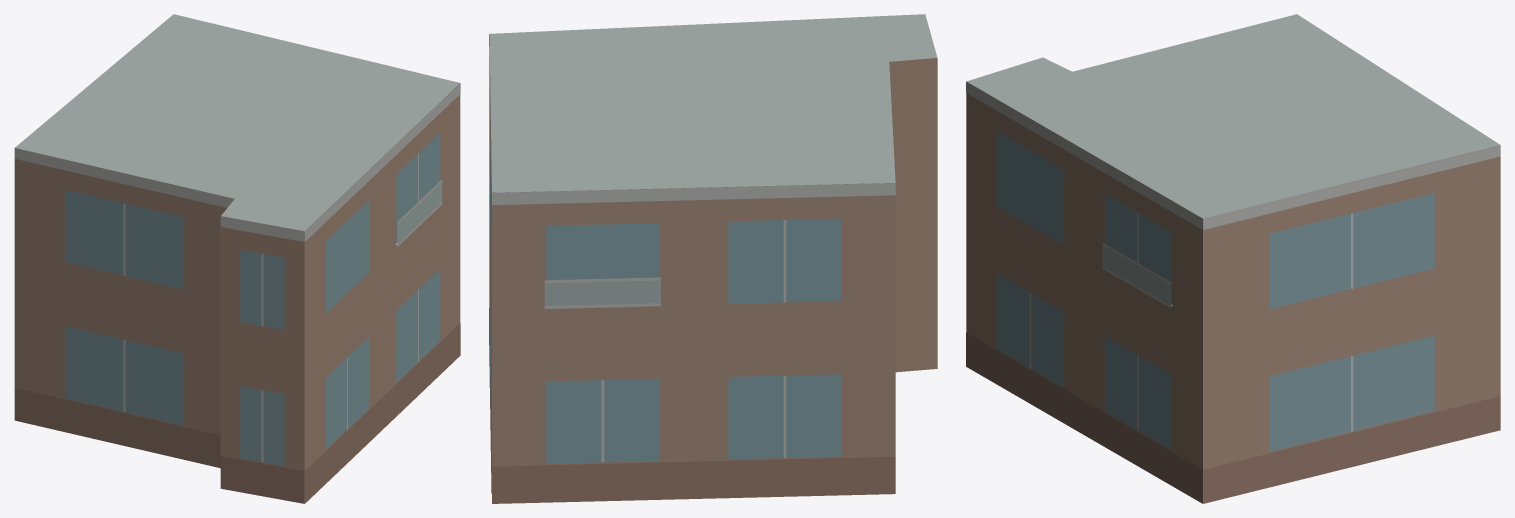
Rendered from survey-upis-32591151.glb.
3 renders of one model, left to right at view 1: azimuth 30°, elevation 25°; view 2: azimuth 150°, elevation 25°; view 3: azimuth 270°, elevation 25°, orthographic. The views are drawn at different scales.
Parts seen in each view (by area): view 1: survey-upis-32591151.tmp; view 2: survey-upis-32591151.tmp; view 3: survey-upis-32591151.tmp.
Part boxes in pixels (x1,y1,x2,y2): survey-upis-32591151.tmp: [14, 14, 460, 503]; survey-upis-32591151.tmp: [489, 14, 937, 503]; survey-upis-32591151.tmp: [966, 14, 1500, 503].
Bounding box in the file's own units: 9.4 × 6.1 × 10.37.
